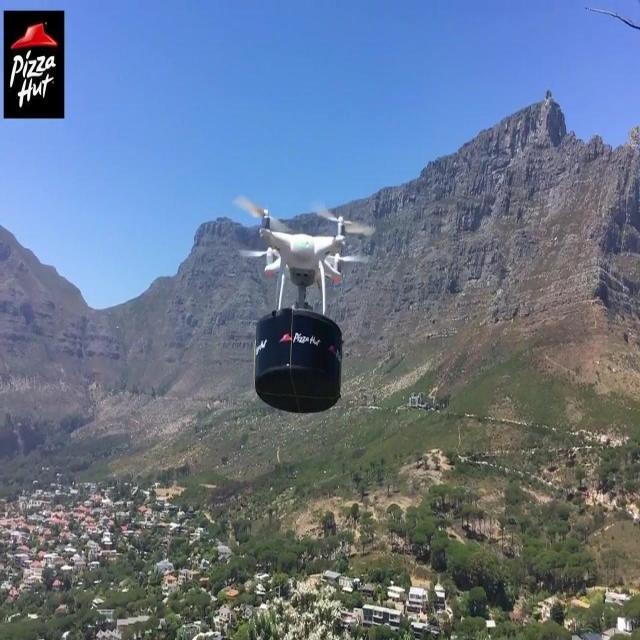UAV: (234, 195, 376, 311)
